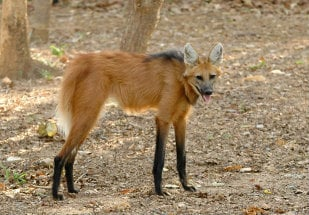LoboGuara: (44, 41, 230, 201)
